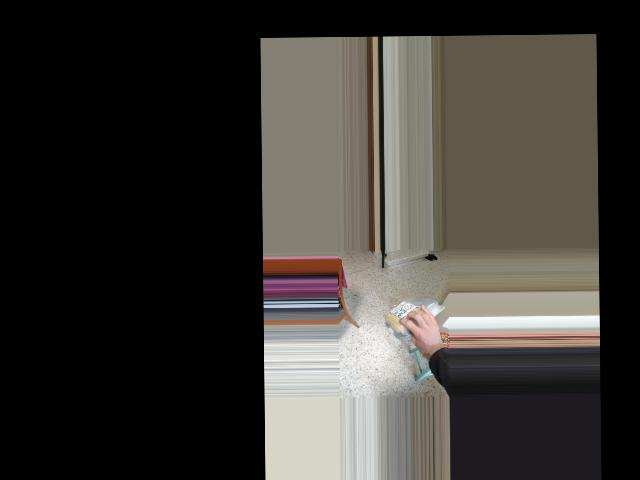cheese: (377, 301, 441, 329)
